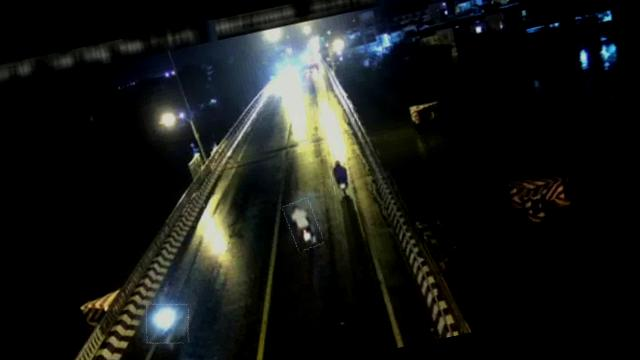Bike: (141, 298, 194, 348), (282, 197, 324, 252), (328, 158, 354, 195)
